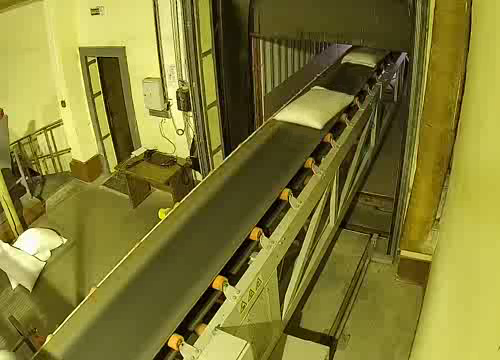bag: (270, 81, 359, 131), (340, 44, 395, 69)
